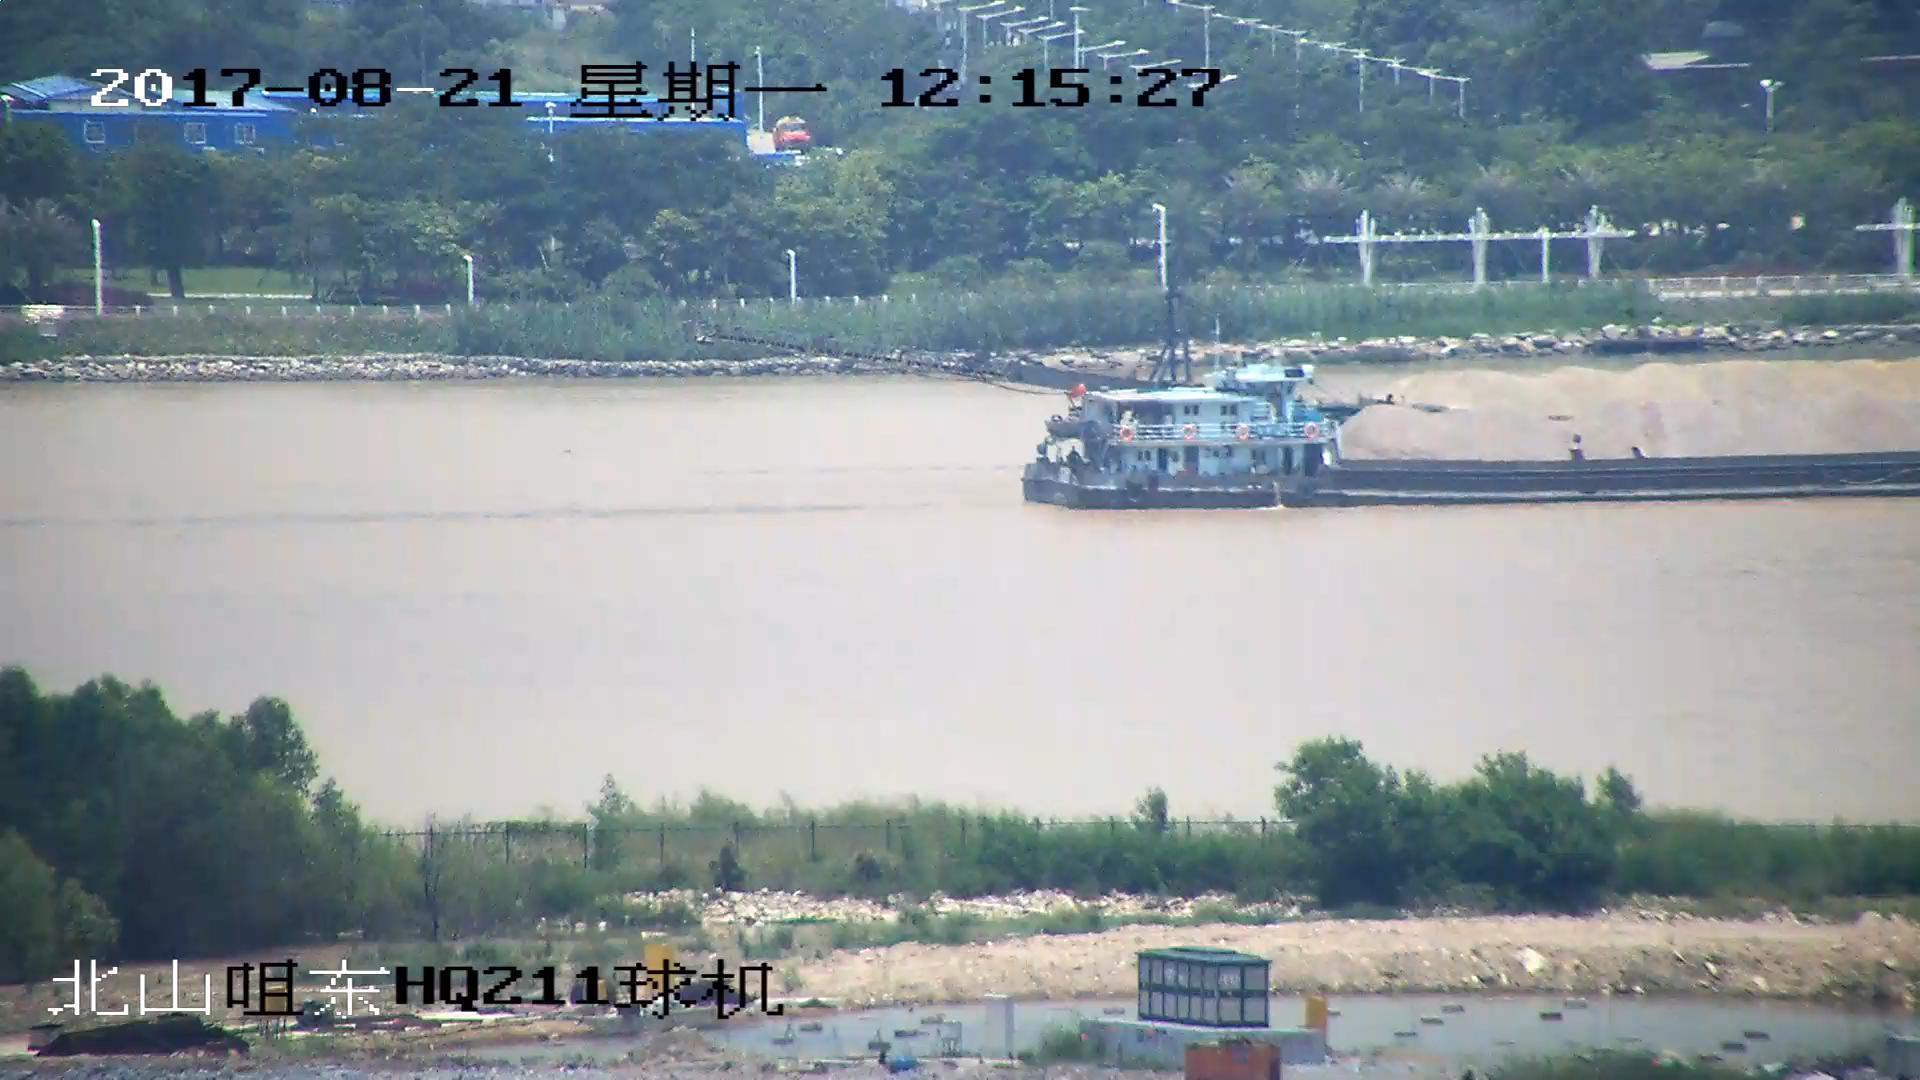ore carrier: (707, 303, 1919, 455), (1025, 387, 1920, 502)
